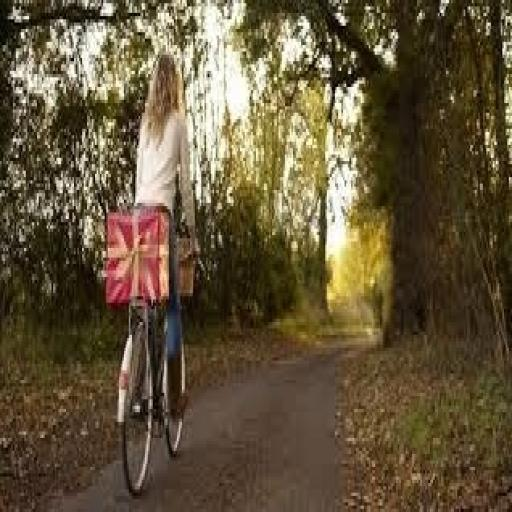cycling: (130, 48, 202, 428)
